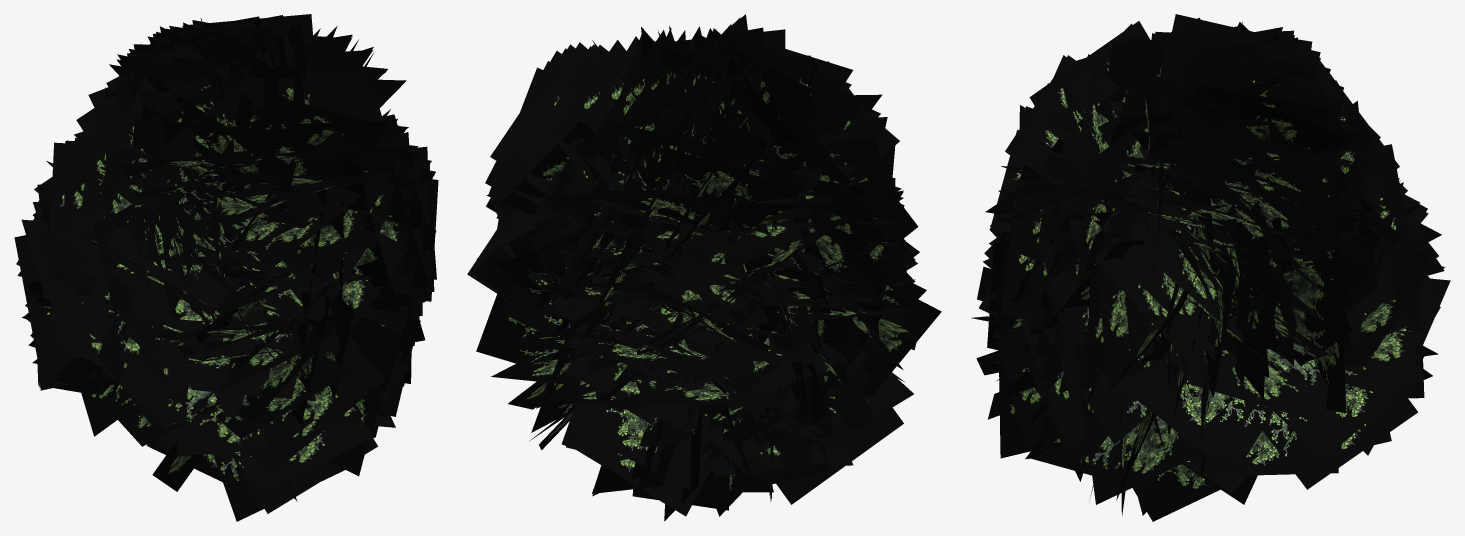
Rendered from arbre2.glb.
3 views of the same model, side by side, from view 1: azimuth 30°, elevation 25°; view 2: azimuth 150°, elevation 25°; view 3: azimuth 270°, elevation 25° (orthographic). The views are drawn at different scales.
Bounding box in the file's own units: 6.73 × 7.65 × 6.82.
2 materials, 1 textured.
